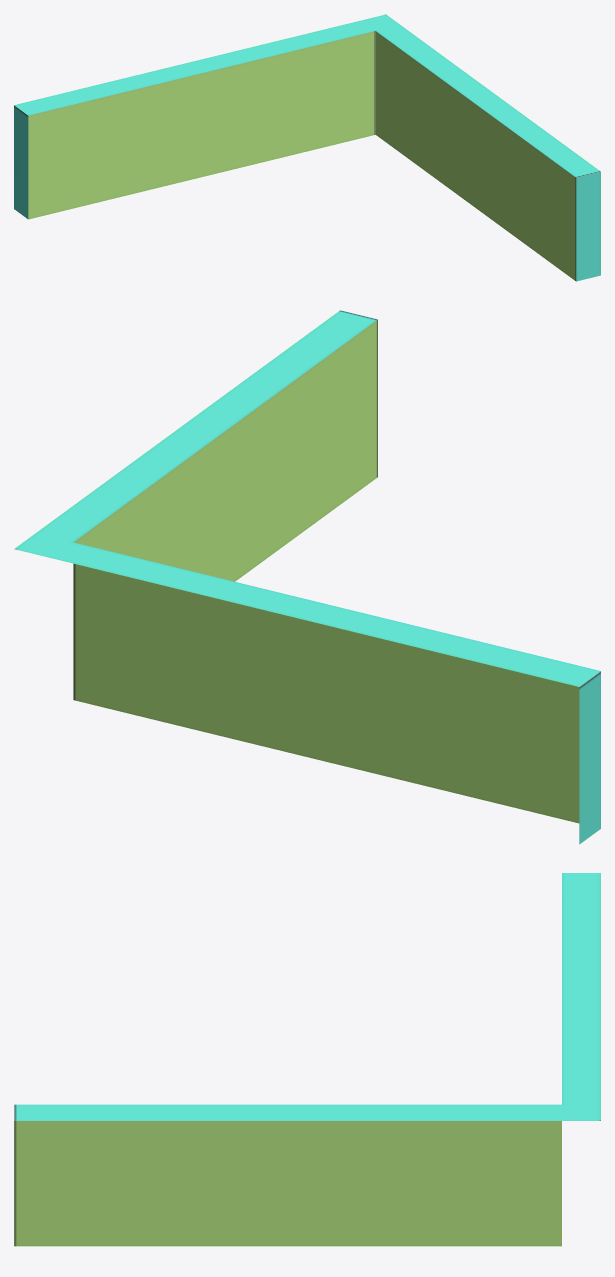
The model's file is MK_Wall_Trim_B_Corner_In.fbx.
3 renders of one model, top to bottom at view 1: azimuth 30°, elevation 25°; view 2: azimuth 150°, elevation 25°; view 3: azimuth 270°, elevation 25°, orthographic. The views are drawn at different scales.
Visible parts, largest first — view 1: Wall_Trim_B_Corner_In; view 2: Wall_Trim_B_Corner_In; view 3: Wall_Trim_B_Corner_In.
Boxes of the visible parts, bbox=[...] form: Wall_Trim_B_Corner_In: bbox=[14, 14, 600, 281]; Wall_Trim_B_Corner_In: bbox=[14, 310, 600, 844]; Wall_Trim_B_Corner_In: bbox=[14, 873, 600, 1246].
Bounding box in the file's own units: 169 × 45 × 169.
1 material, 1 textured.
